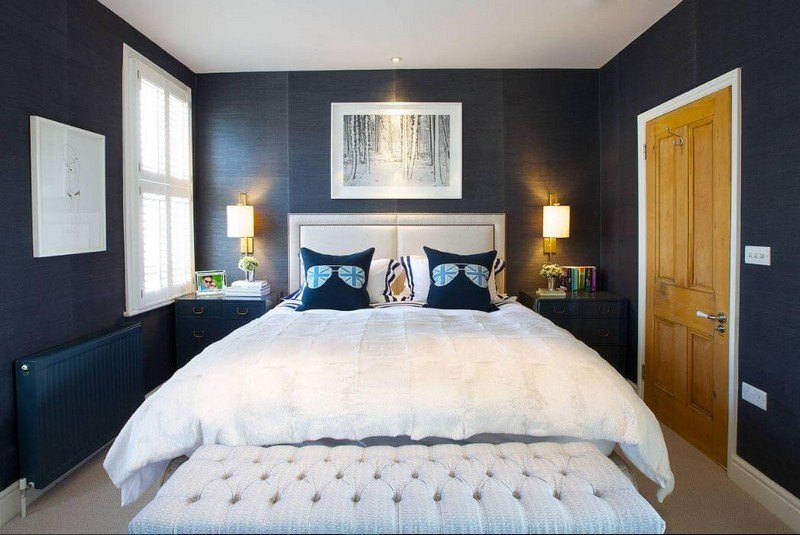bed: (134, 213, 673, 526)
door: (633, 65, 740, 480)
lamp: (221, 193, 262, 266), (542, 193, 572, 265)
stool: (521, 284, 631, 372), (170, 289, 277, 368)
